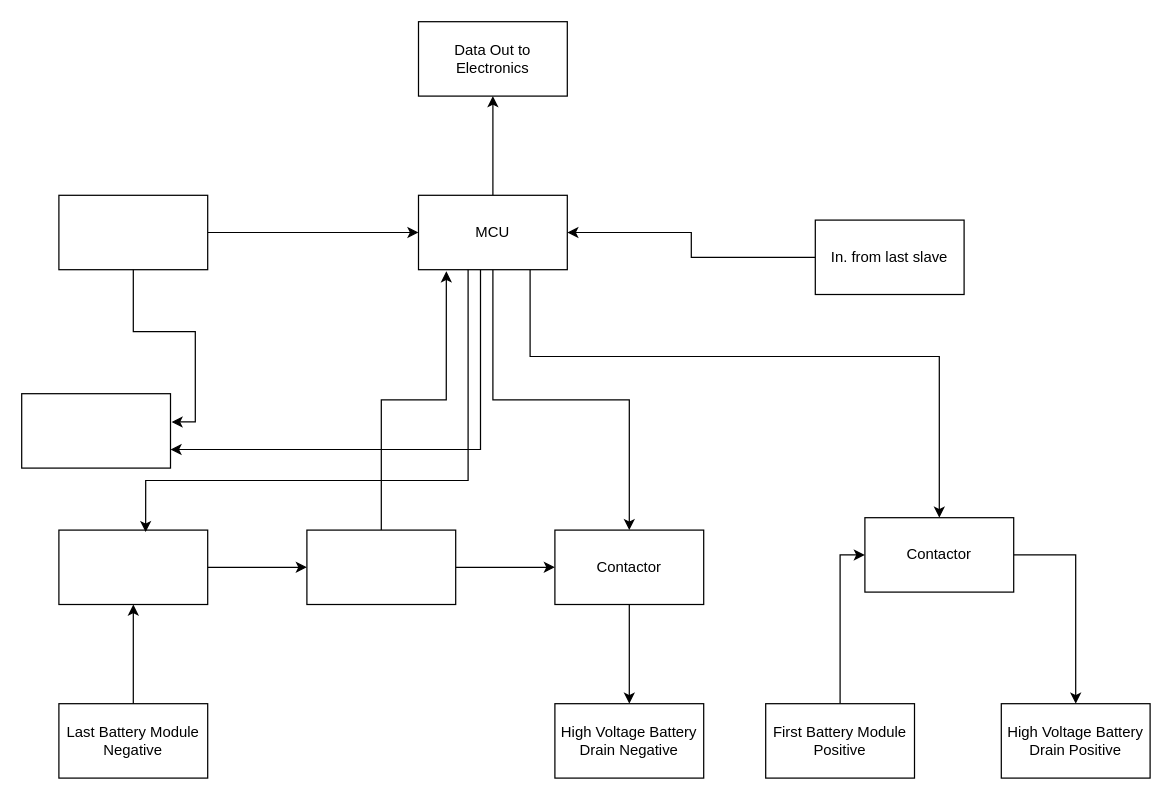
This 1172x800 diagram has some shape labels left out. The centre of each missing label's shape, as x and y in pixels:
"Current shunt" goes at pixel 381 566.
"IGBT" goes at pixel 133 566.
"Out. to first slave" goes at pixel 95 430.
"Pow. In" goes at pixel 133 232.
